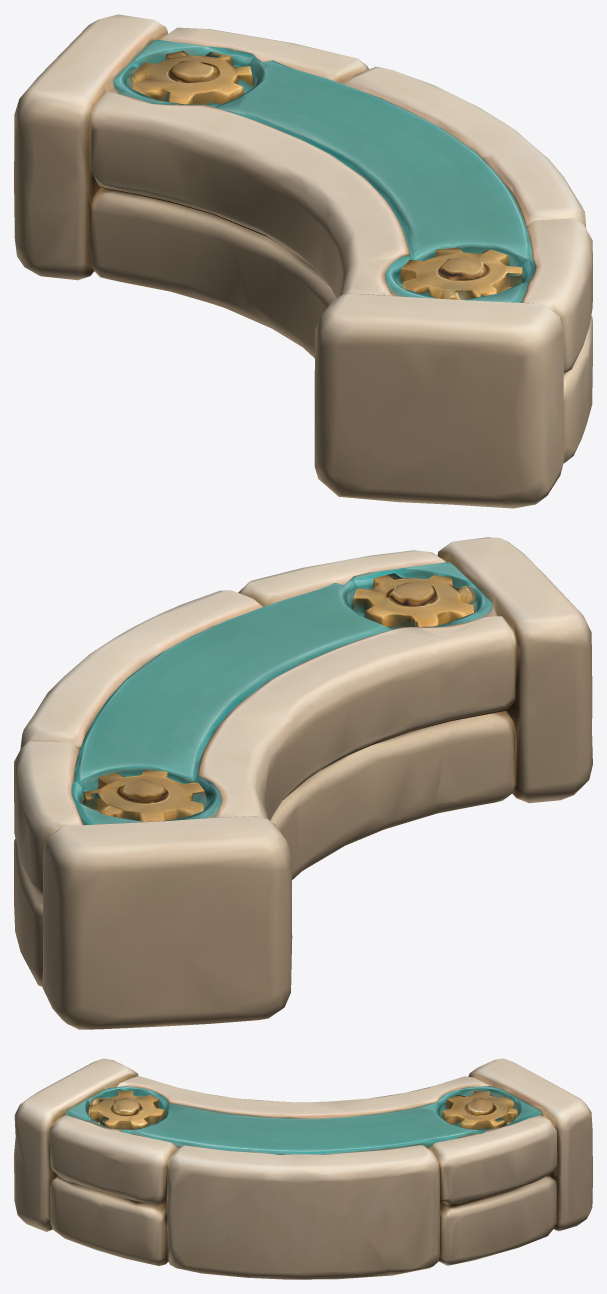
The model's file is Kit_X_Curb_raw.glb.
The picture shows the model from 3 angles, top to bottom: view 1: azimuth 30°, elevation 25°; view 2: azimuth 150°, elevation 25°; view 3: azimuth 270°, elevation 25°; orthographic projection. The views are drawn at different scales.
Visible parts, largest first — view 1: tripo_node_a3c37e1a-d34a-4f38-aca0-8f27a5a91a35; view 2: tripo_node_a3c37e1a-d34a-4f38-aca0-8f27a5a91a35; view 3: tripo_node_a3c37e1a-d34a-4f38-aca0-8f27a5a91a35.
Part boxes in pixels (x1=…): tripo_node_a3c37e1a-d34a-4f38-aca0-8f27a5a91a35: x1=14, y1=14, x2=592, y2=508; tripo_node_a3c37e1a-d34a-4f38-aca0-8f27a5a91a35: x1=14, y1=537, x2=592, y2=1029; tripo_node_a3c37e1a-d34a-4f38-aca0-8f27a5a91a35: x1=14, y1=1058, x2=592, y2=1279.
Bounding box in the file's own units: 0.4634 × 0.2467 × 1.
Materials: 1 (1 with a texture image).
